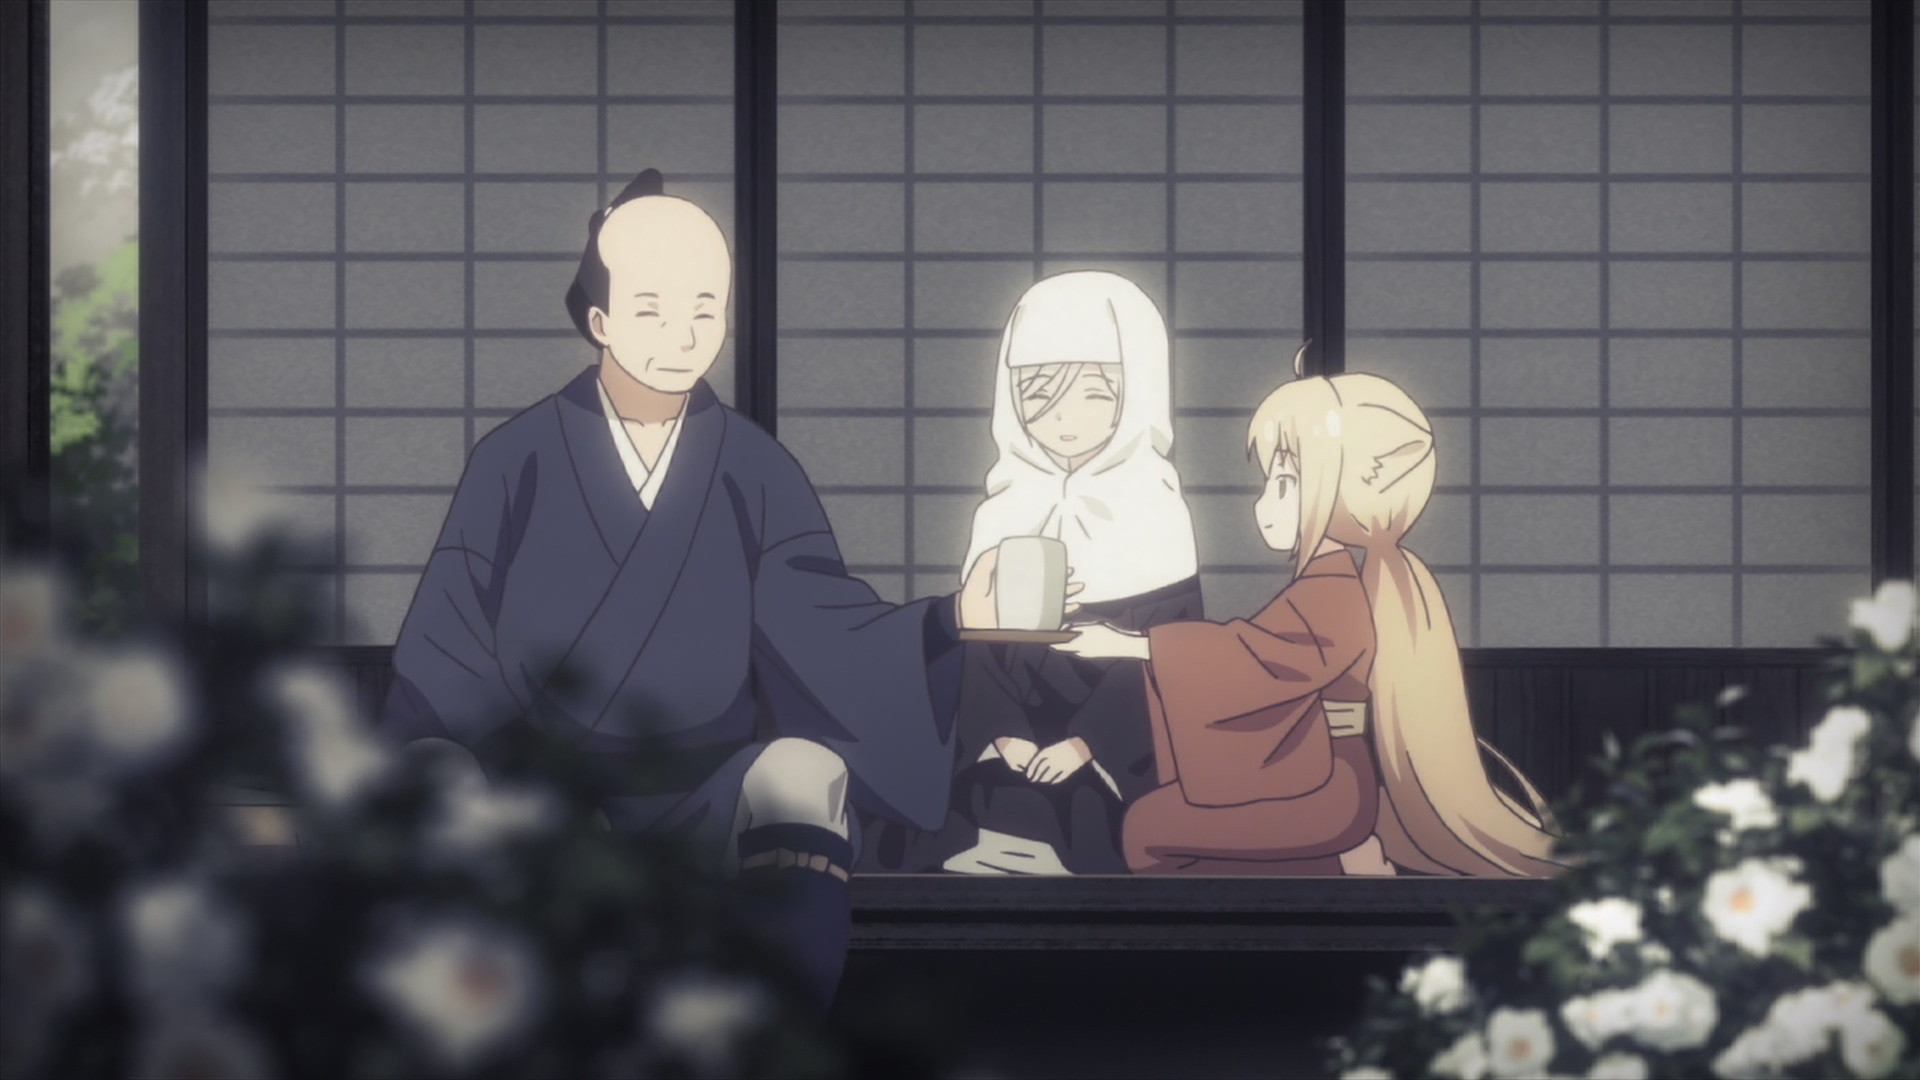八百比丘尼: (873, 272, 1207, 873)
其他: (378, 167, 1085, 1033)
柚: (1050, 338, 1589, 880)
